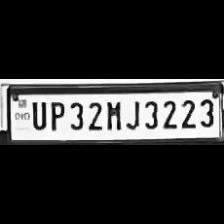2: (158, 97, 178, 131), (85, 98, 103, 132), (178, 96, 196, 130)
3: (140, 96, 158, 130), (197, 95, 215, 129), (66, 97, 84, 130)
J: (124, 97, 140, 131)
M: (102, 97, 122, 130)
P: (46, 99, 66, 131)
U: (28, 97, 46, 130)
